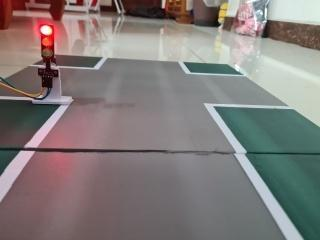red: (31, 13, 62, 74)
